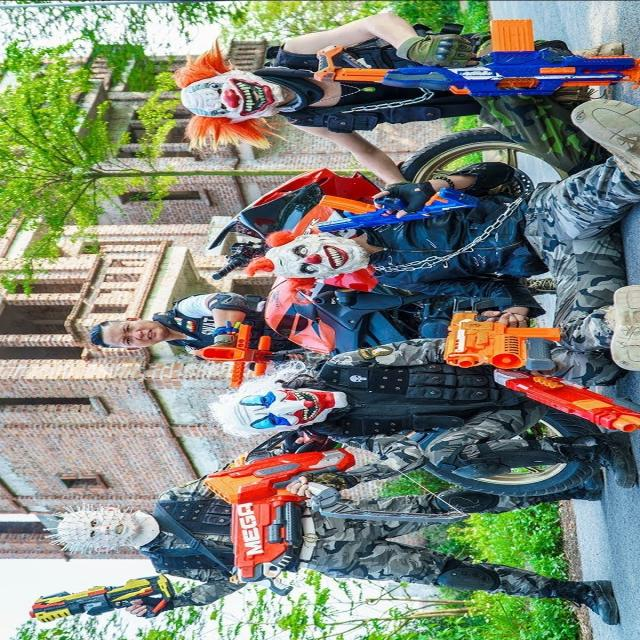Nerf gun: (302, 17, 640, 103), (201, 439, 396, 505), (430, 296, 569, 371), (305, 180, 486, 236), (488, 368, 639, 434), (214, 461, 288, 583), (19, 572, 180, 628), (190, 320, 283, 388)
